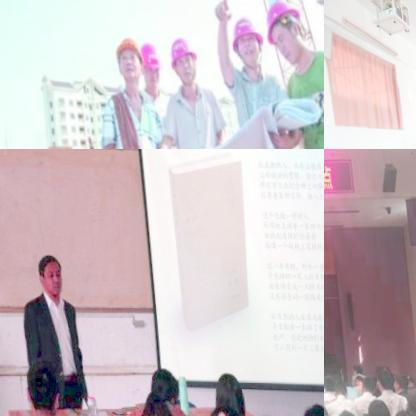head: (14, 353, 57, 416), (138, 361, 177, 408), (204, 365, 239, 413), (29, 252, 57, 296), (195, 402, 239, 416), (290, 398, 324, 416), (360, 395, 384, 416), (369, 366, 387, 392), (355, 375, 372, 395), (384, 371, 400, 392), (402, 392, 416, 416), (325, 406, 357, 416), (400, 366, 413, 390), (347, 370, 361, 392), (387, 407, 411, 416), (346, 362, 358, 378), (324, 371, 332, 389), (414, 374, 416, 393)
helmet: (256, 0, 310, 68), (224, 12, 262, 72), (163, 31, 197, 91), (110, 31, 140, 90), (133, 40, 160, 89)
